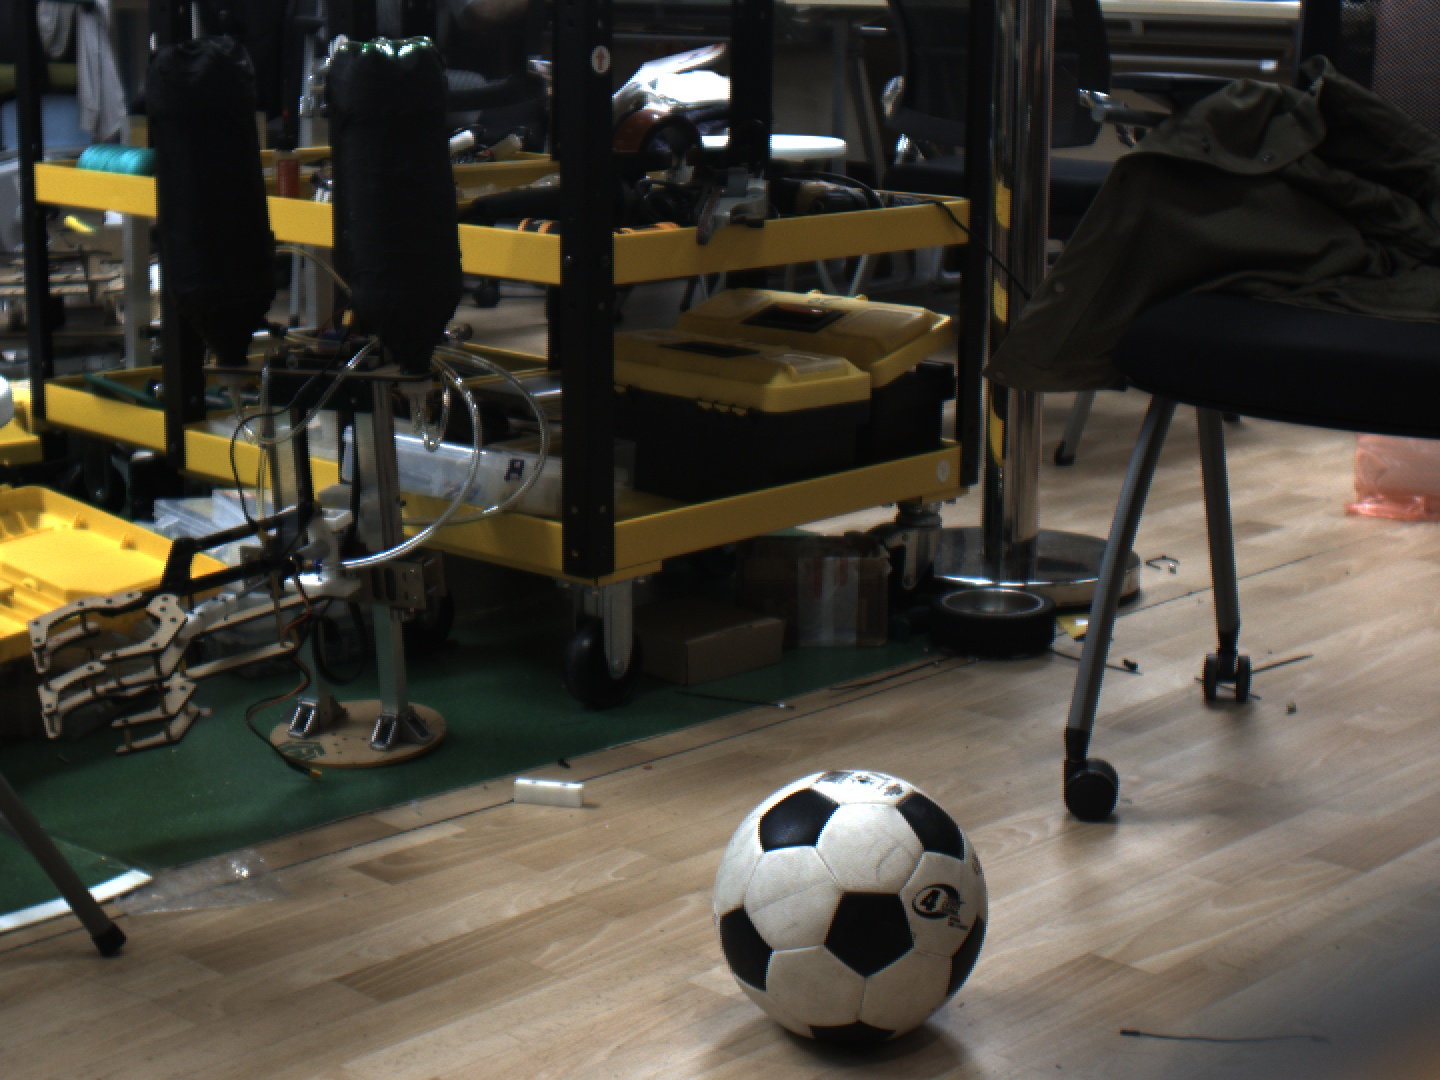ball: (672, 752, 1056, 1058)
